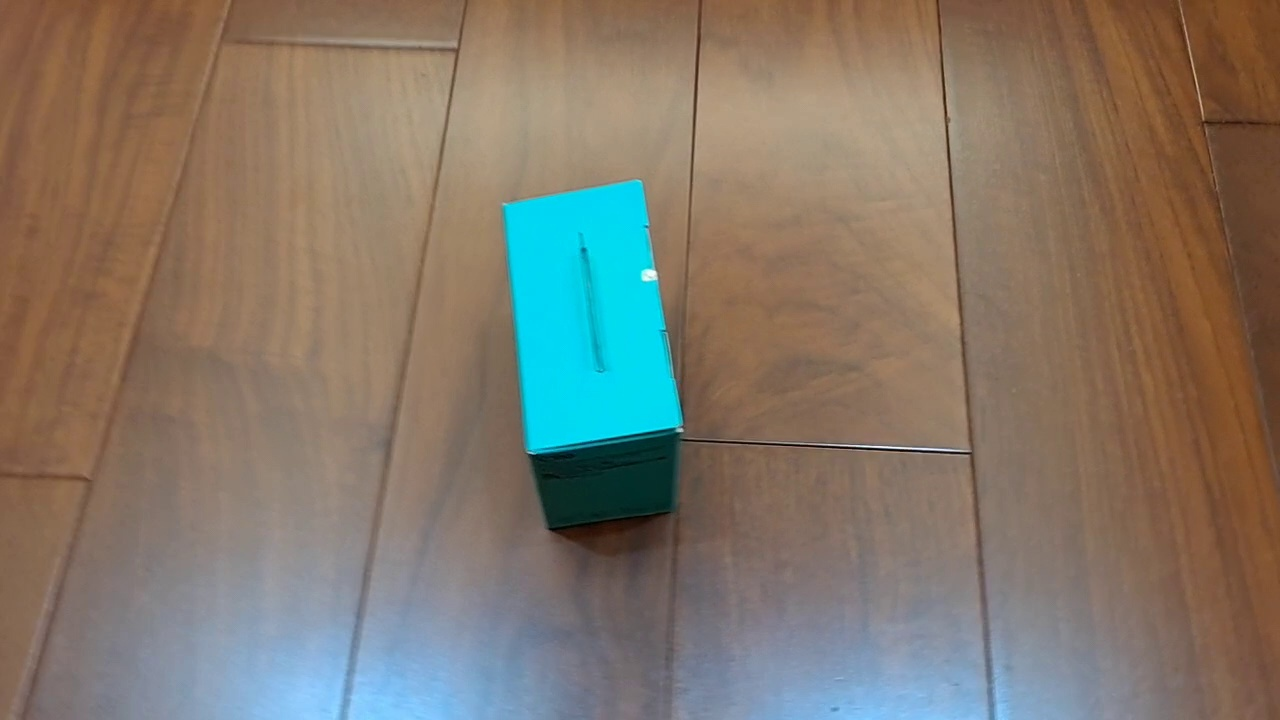webcam: (500, 177, 686, 531)
